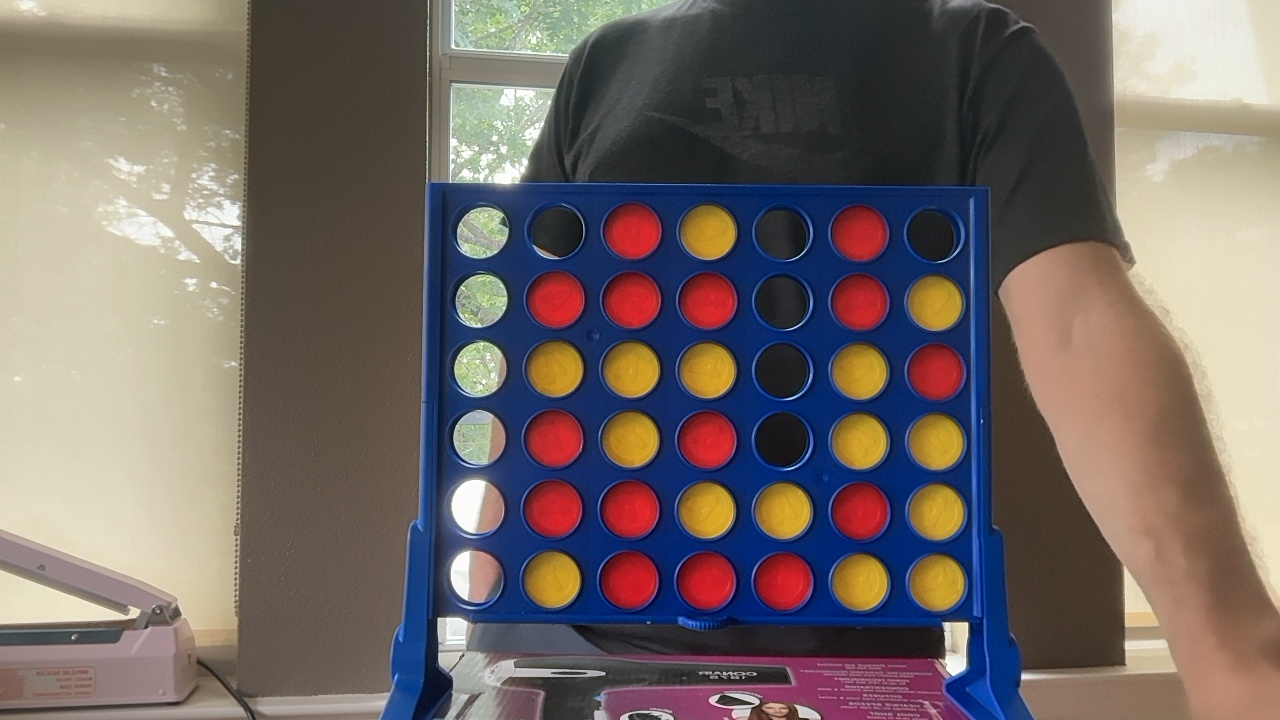red piece: (599, 480, 659, 539), (599, 551, 658, 610), (677, 411, 736, 470), (676, 552, 735, 611), (753, 553, 813, 611), (523, 480, 582, 538), (524, 410, 583, 468), (526, 271, 584, 328), (831, 483, 889, 540), (679, 273, 736, 330), (907, 343, 964, 400), (603, 272, 660, 329), (831, 274, 888, 330), (604, 203, 660, 259), (831, 206, 888, 261)
yellow piece: (523, 551, 581, 609), (754, 482, 812, 540), (677, 482, 735, 539), (678, 342, 736, 399), (908, 484, 966, 541), (525, 340, 583, 397), (602, 341, 660, 398), (601, 411, 659, 468), (908, 555, 966, 612), (831, 343, 888, 400), (831, 554, 888, 611), (831, 413, 888, 470), (908, 414, 965, 470), (907, 275, 964, 331), (680, 204, 736, 259)
